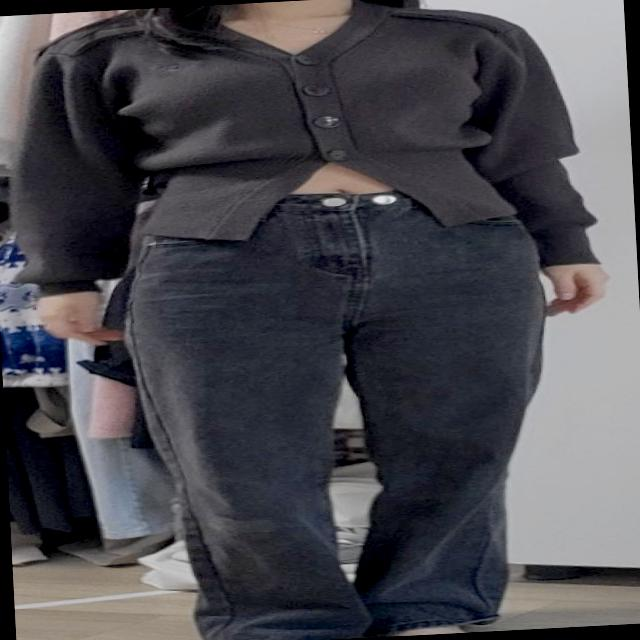cardigan: (4, 0, 596, 301)
denimpants: (106, 176, 561, 640)
